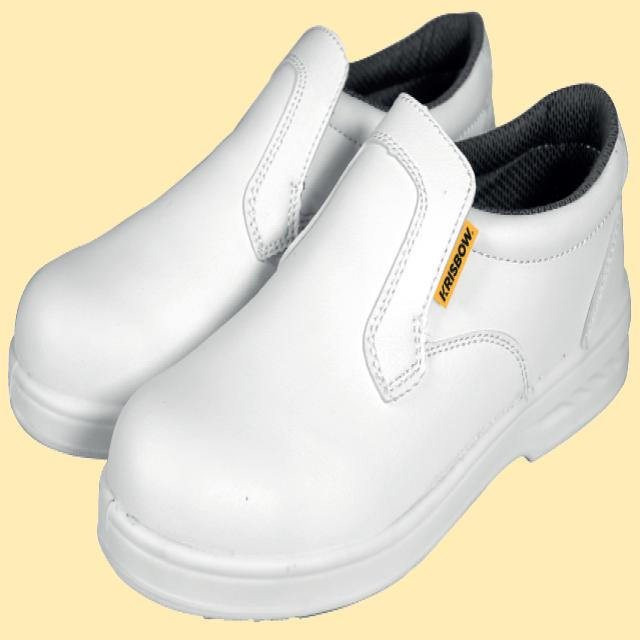shoe: (98, 84, 630, 623), (2, 8, 498, 462)
